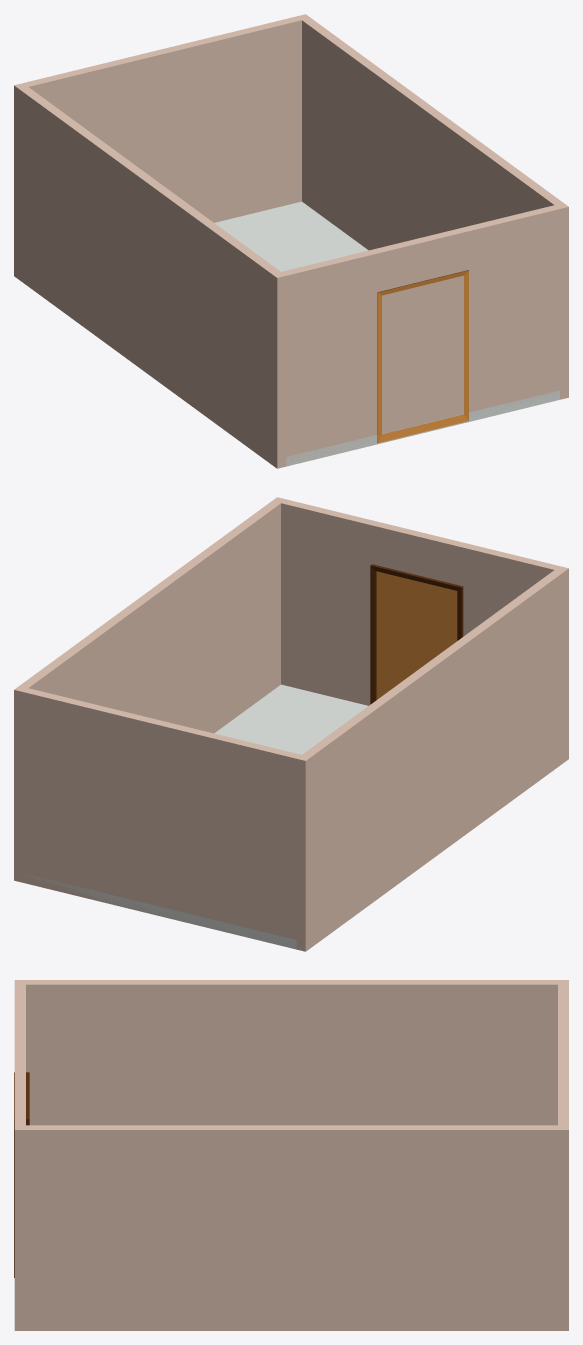
Rendered from Room.fbx.
3 renders of one model, top to bottom at view 1: azimuth 30°, elevation 25°; view 2: azimuth 150°, elevation 25°; view 3: azimuth 270°, elevation 25°, orthographic. The views are drawn at different scales.
Visible parts, largest first — view 1: Right Wall, Front Wall, Back Wall, Left Wall, Floor, Pintu; view 2: Right Wall, Back Wall, Left Wall, Front Wall, Pintu, Floor; view 3: Left Wall, Right Wall, Front Wall, Back Wall.
Part boxes in pixels (<box>): Right Wall: <box>14,83,286,468</box>; Front Wall: <box>281,205,559,465</box>; Back Wall: <box>23,16,301,222</box>; Left Wall: <box>297,14,568,399</box>; Floor: <box>214,201,559,466</box>; Pintu: <box>377,270,468,442</box>; Right Wall: <box>296,566,568,951</box>; Back Wall: <box>23,688,301,941</box>; Left Wall: <box>14,497,285,882</box>; Front Wall: <box>281,499,559,705</box>; Pintu: <box>370,564,463,704</box>; Floor: <box>24,684,368,949</box>; Left Wall: <box>14,1125,568,1330</box>; Right Wall: <box>14,980,568,1125</box>; Front Wall: <box>14,984,25,1125</box>; Back Wall: <box>558,984,568,1125</box>.
Bounding box in the file's own units: 640 × 400 × 1001.
